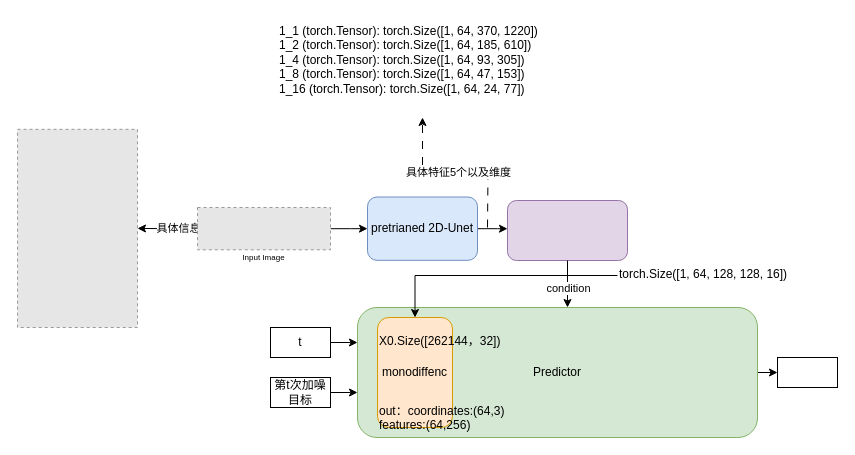
The diagram is 855 pixels wide and 455 high, and some of its shapes have lost their labels. Grey dashed boxes stand in for pictures. Here are the shapes that lost their labels. From the top down, the centre of each, then its label:
At (x=567, y=230): "FloSP Encoder".
At (x=807, y=372): "预测原有噪声".
